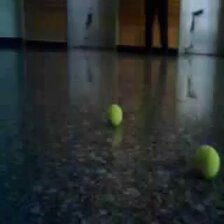tennis: (194, 145, 220, 179), (107, 104, 123, 127)
